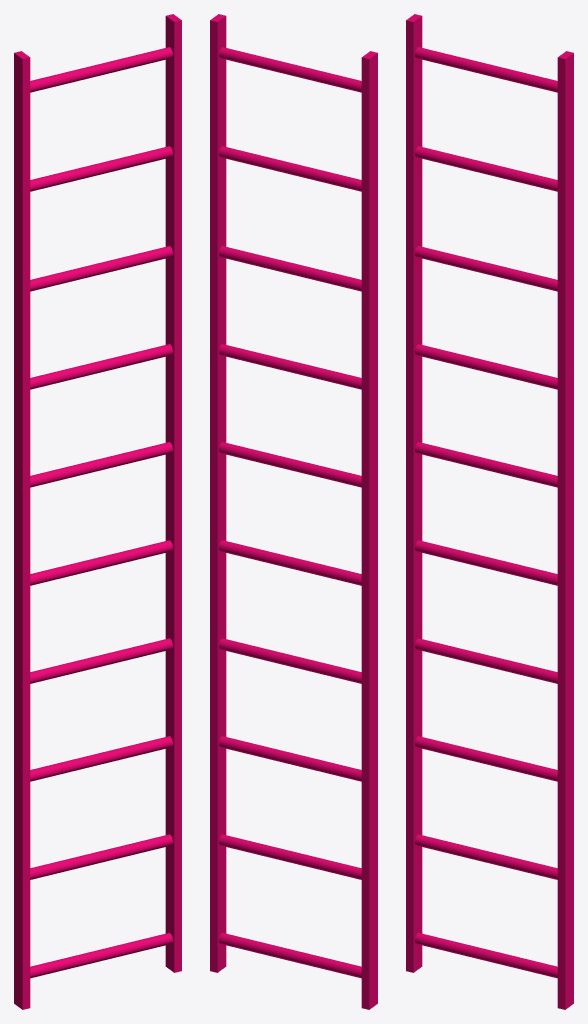
File: Ladder_Wood_01_Lod0.fbx
3 views of the same model, side by side, from view 1: azimuth 30°, elevation 25°; view 2: azimuth 150°, elevation 25°; view 3: azimuth 330°, elevation 25° (orthographic).
Parts seen in each view (by area): view 1: Ladder_Wood_01_Lod0; view 2: Ladder_Wood_01_Lod0; view 3: Ladder_Wood_01_Lod0.
Part boxes in pixels (<box>): Ladder_Wood_01_Lod0: <box>14,14,181,1009</box>; Ladder_Wood_01_Lod0: <box>210,14,377,1009</box>; Ladder_Wood_01_Lod0: <box>406,14,573,1009</box>.
Size of the model in its own units: 68.91 by 393 by 6.5.
